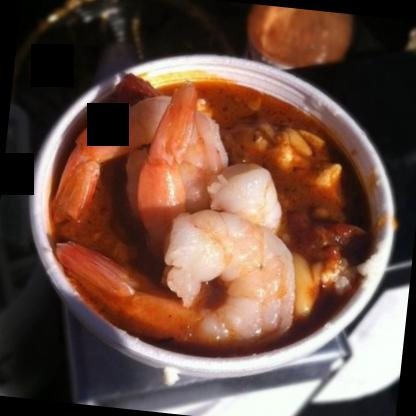shrimp: (50, 195, 305, 352), (128, 80, 302, 262), (48, 85, 240, 246)
